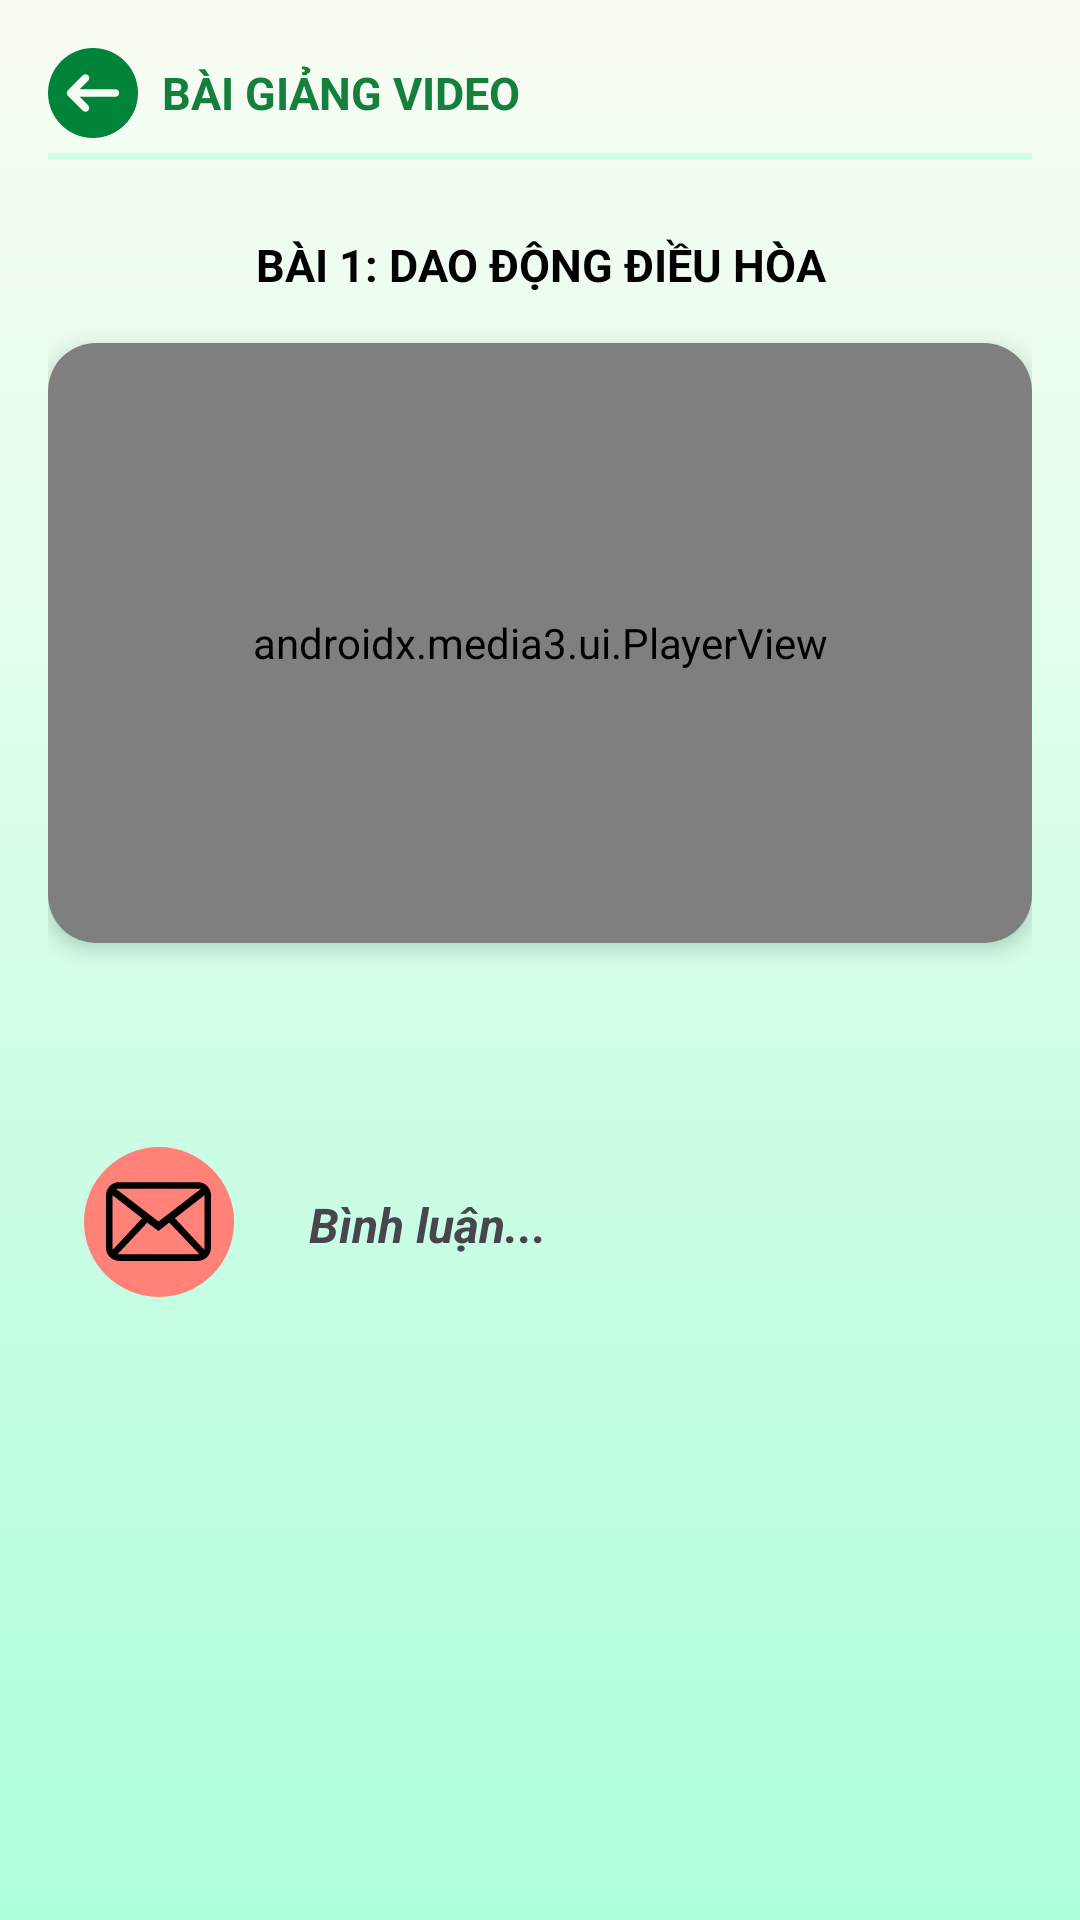

Locate icon controls on the screen. Image size 1080px×1920px, boxes as BBox(x1, y1, x2, y2).
back: BBox(48, 48, 138, 138)
mail: BBox(106, 1182, 211, 1261)
